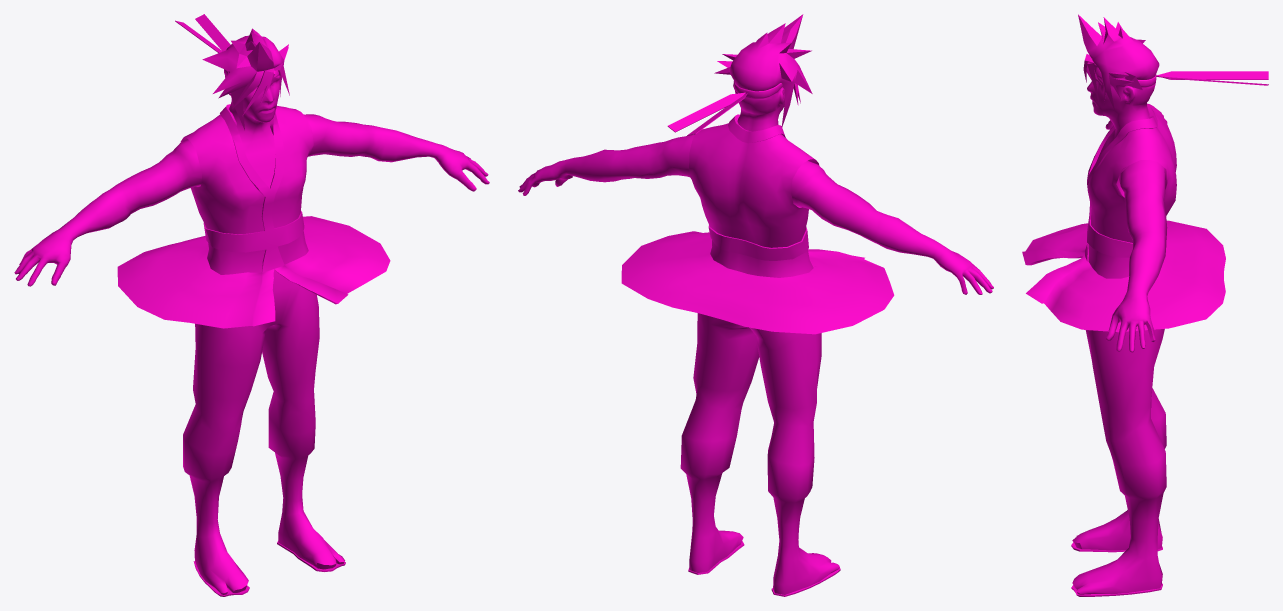
Rendered from na mozaiek fix.FBX.
The picture shows the model from 3 angles, left to right: view 1: azimuth 30°, elevation 25°; view 2: azimuth 150°, elevation 25°; view 3: azimuth 270°, elevation 25°; orthographic projection.
Parts seen in each view (by area): view 1: zz; view 2: zz; view 3: zz.
Boxes of the visible parts, left/top/right/bottom form: zz: left=14, top=14, right=489, bottom=596; zz: left=518, top=14, right=993, bottom=596; zz: left=1022, top=14, right=1268, bottom=596.
Bounding box in the file's own units: 253 × 280 × 116.
